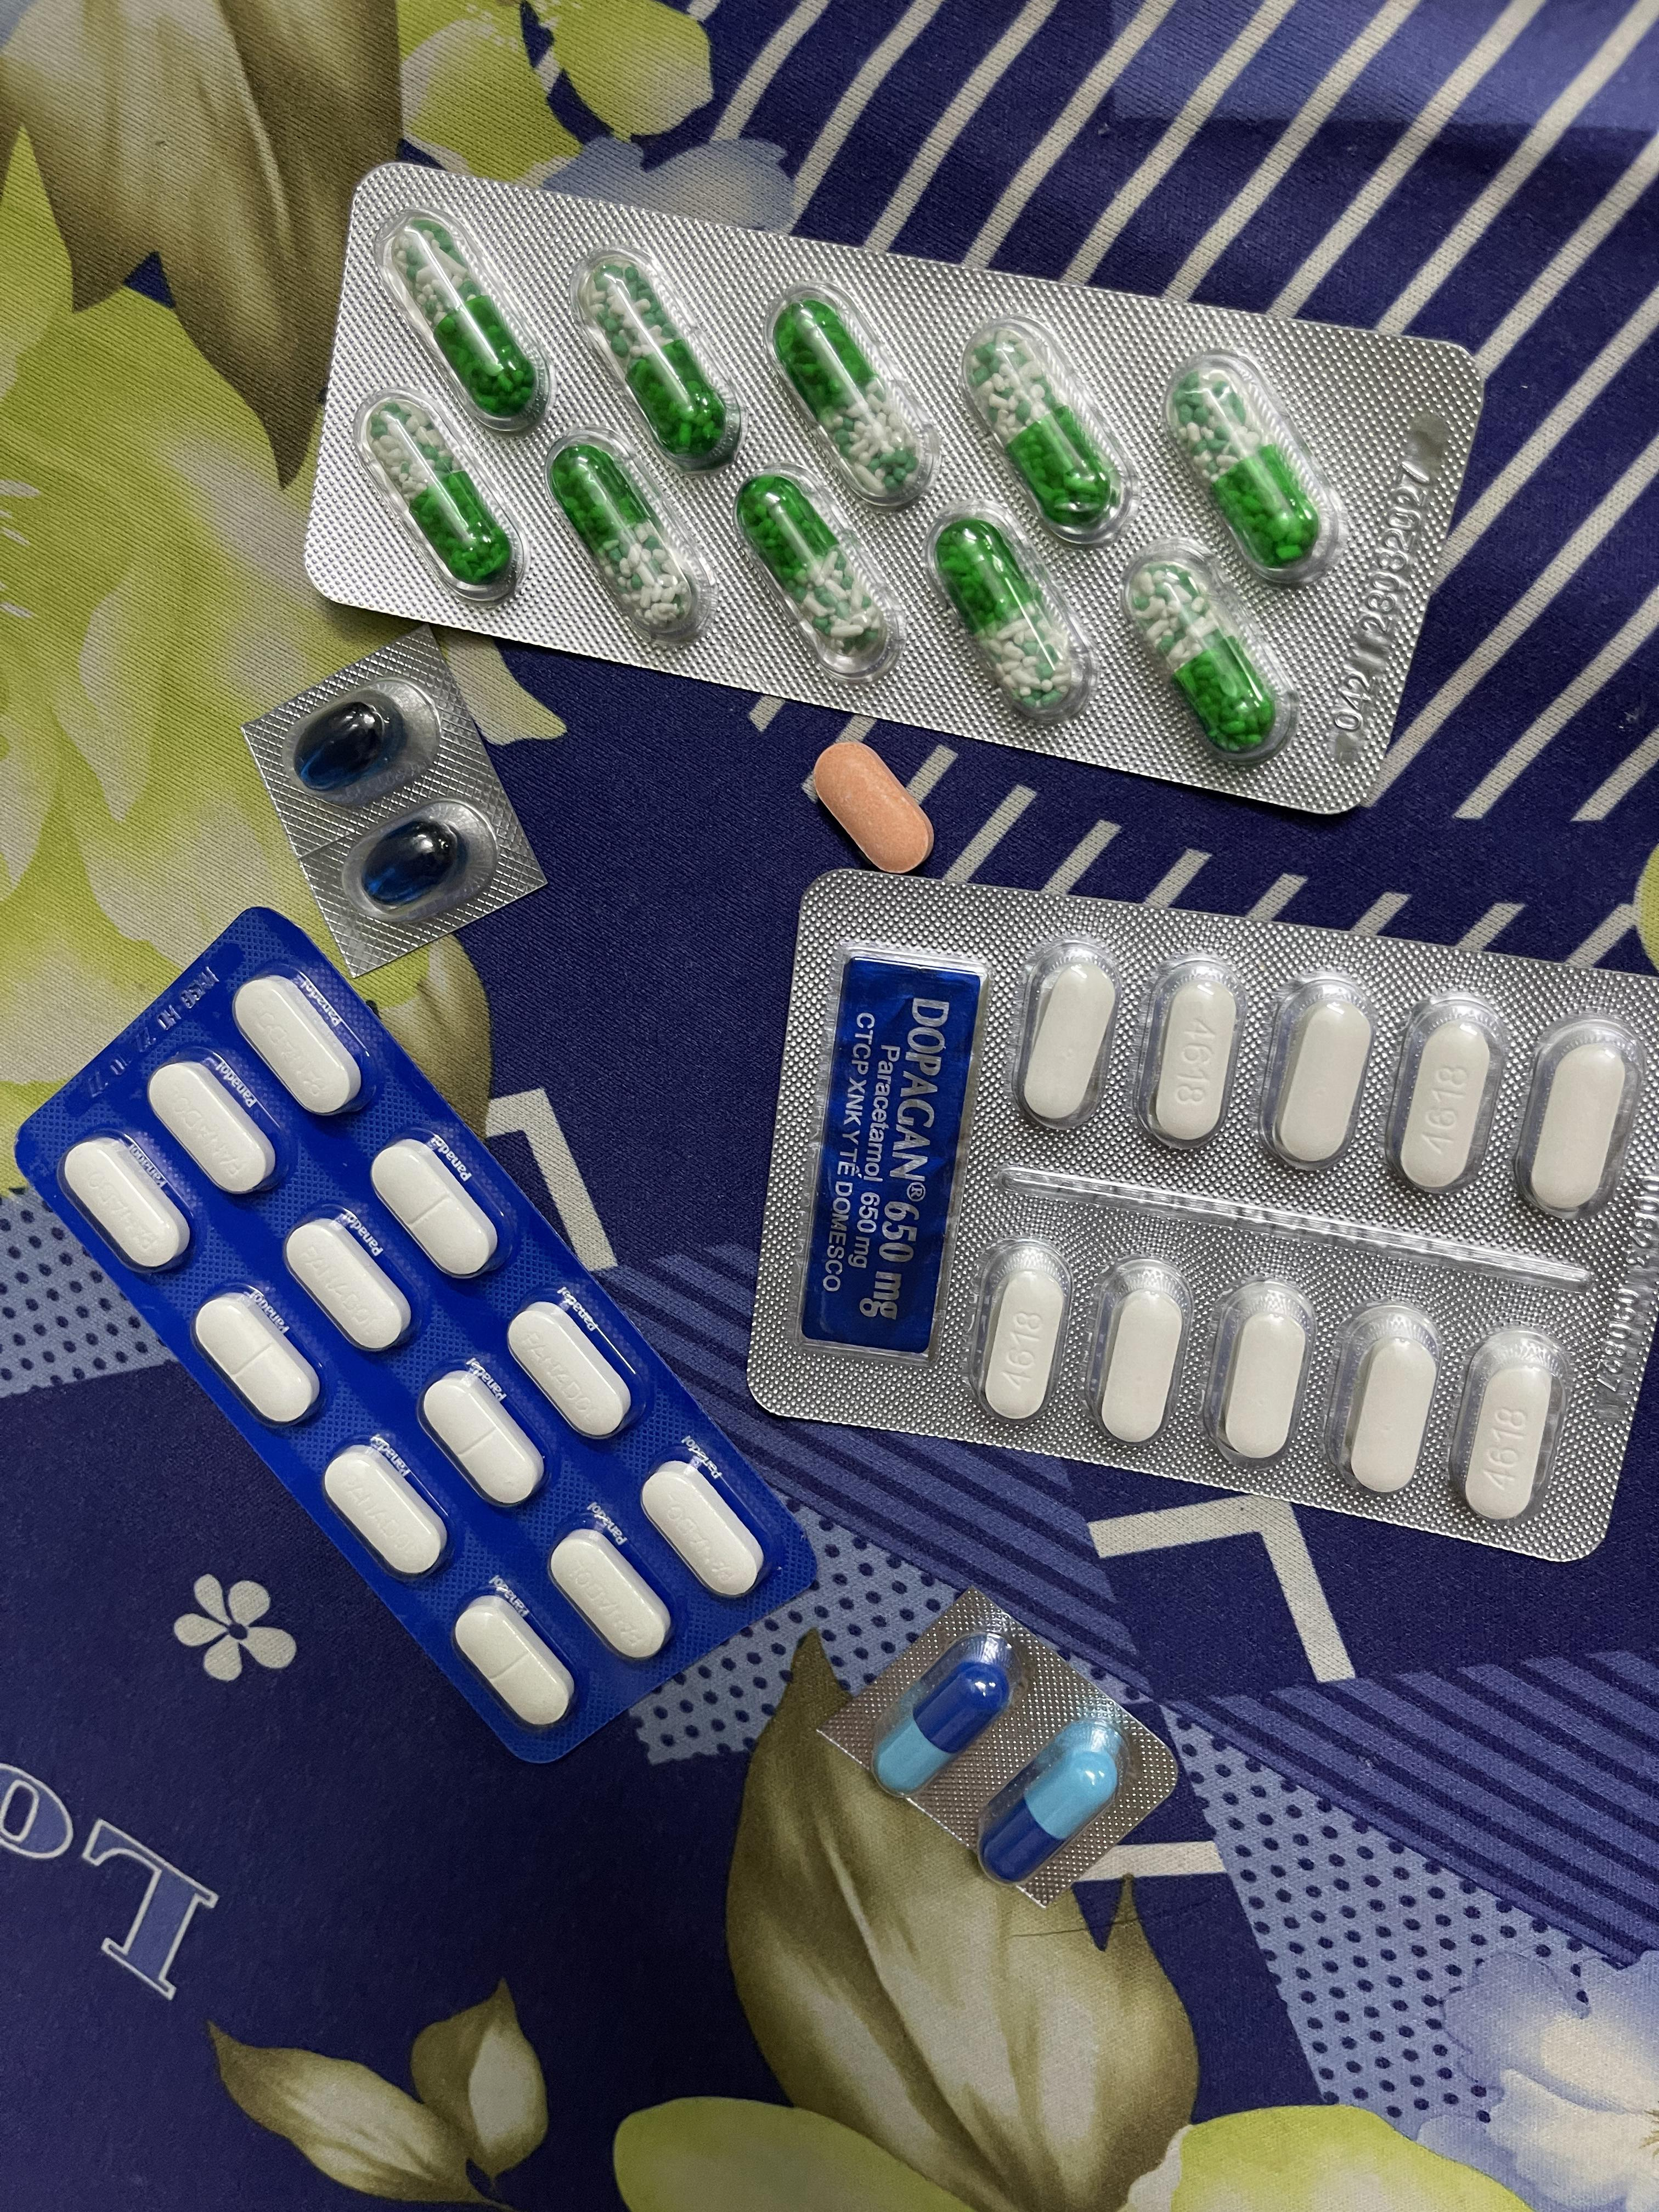Lincomyxin_500mg: (289, 693, 404, 792), (359, 815, 467, 906)
Loratadine_10mg: (812, 744, 934, 869)
Paracetamol_350mg: (235, 977, 369, 1116), (148, 1057, 282, 1197), (371, 1139, 502, 1282), (420, 1369, 547, 1512), (63, 1136, 193, 1273), (284, 1217, 413, 1357), (509, 1298, 634, 1440), (193, 1292, 319, 1432), (643, 1456, 767, 1595), (324, 1444, 448, 1578), (551, 1529, 674, 1662), (455, 1594, 575, 1728)
Paracetamol_500mg: (1514, 1017, 1649, 1224), (1387, 993, 1507, 1195), (1258, 974, 1382, 1169), (1452, 1325, 1570, 1526), (1131, 956, 1248, 1148), (1011, 939, 1121, 1129), (964, 1238, 1068, 1423), (1347, 1334, 1438, 1494), (1222, 1305, 1309, 1463), (1098, 1284, 1183, 1444)
Paracetamol_650mg: (1119, 552, 1276, 751), (728, 470, 880, 660), (969, 329, 1114, 524), (938, 514, 1080, 711), (396, 221, 538, 416), (779, 294, 918, 493), (1175, 373, 1317, 564), (584, 263, 720, 456), (368, 401, 511, 582), (554, 449, 692, 634)
pill: (976, 1710, 1127, 1885), (868, 1632, 1021, 1792)
